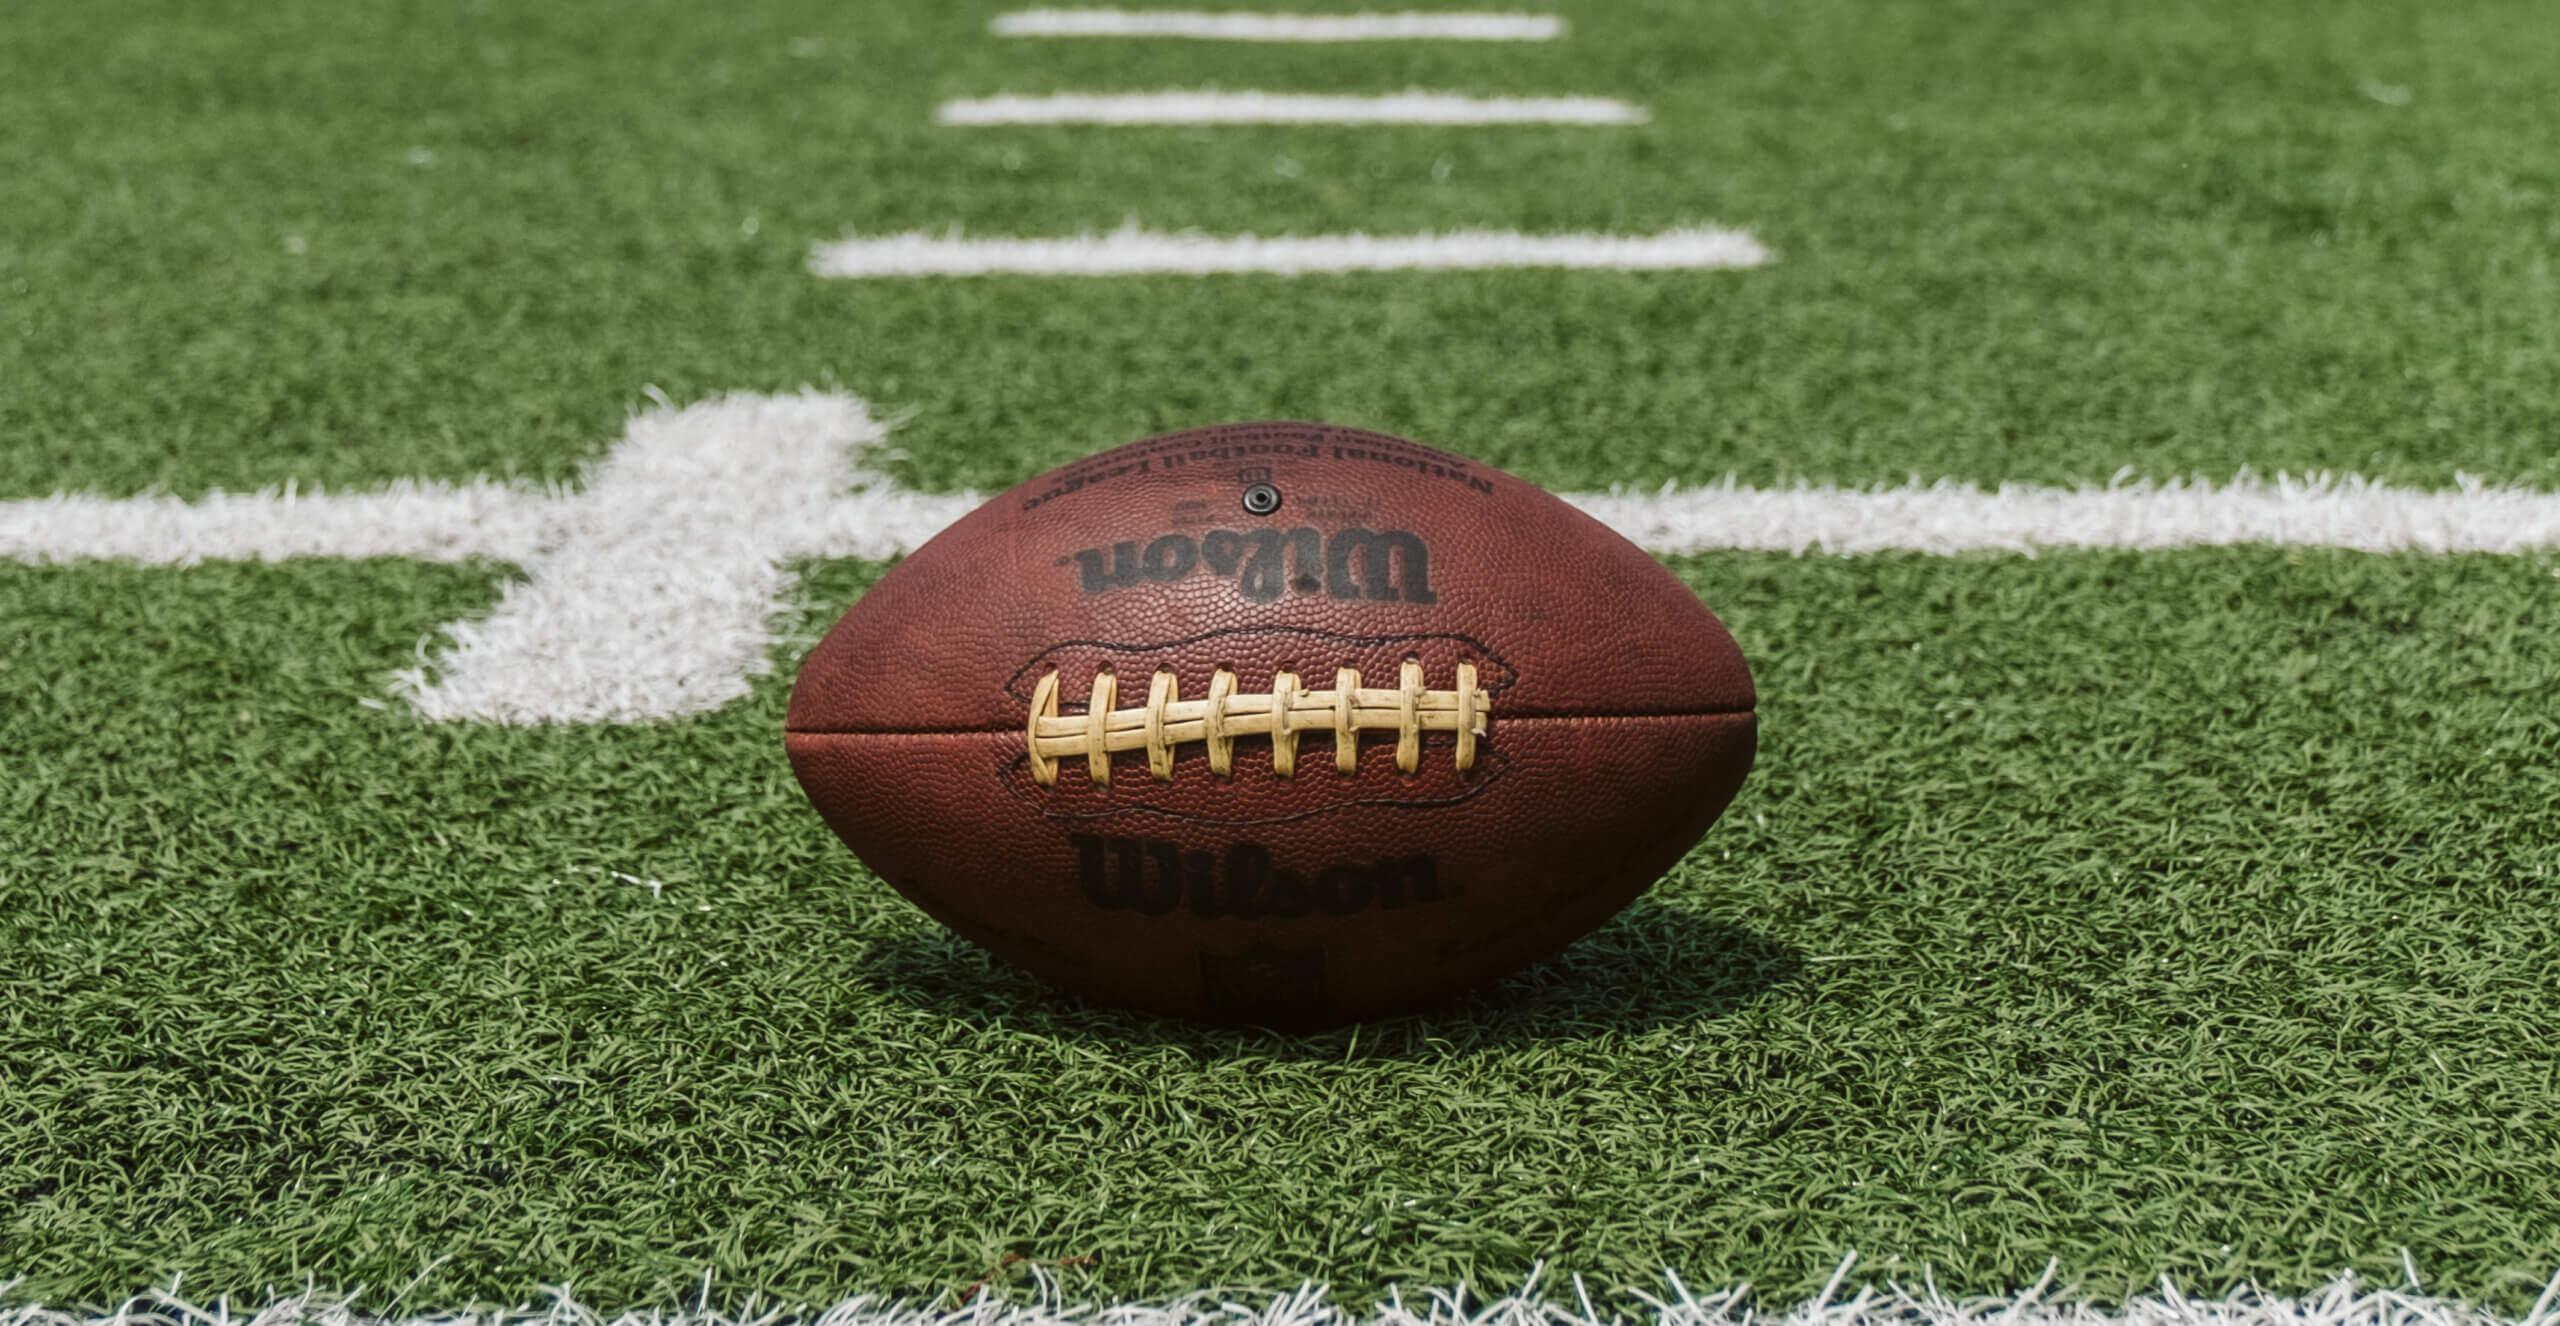Sports-Ball: (785, 419, 1755, 1025)
